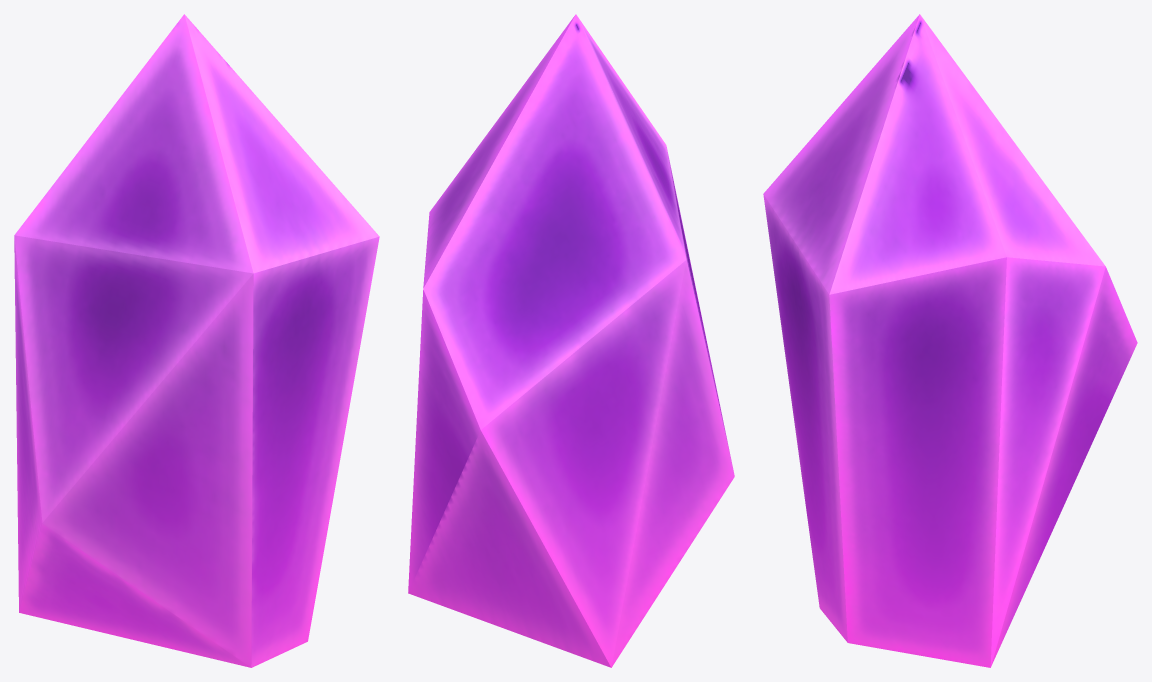
The model's file is crystal_piece_006.fbx.
3 views of the same model, side by side, from view 1: azimuth 30°, elevation 25°; view 2: azimuth 150°, elevation 25°; view 3: azimuth 270°, elevation 25° (orthographic). The views are drawn at different scales.
Parts seen in each view (by area): view 1: crystal_piece_006; view 2: crystal_piece_006; view 3: crystal_piece_006.
Boxes of the visible parts, x1,y1,x2,y2 form: crystal_piece_006: [14, 14, 379, 667]; crystal_piece_006: [408, 14, 734, 667]; crystal_piece_006: [763, 14, 1137, 667].
Size of the model in its own units: 0.4234 by 0.8297 by 0.4776.
Materials: 1 (1 with a texture image).
